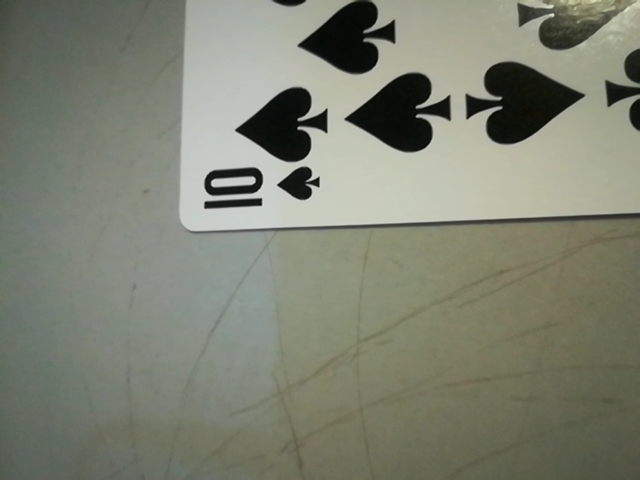ht 10: (186, 158, 338, 226)
